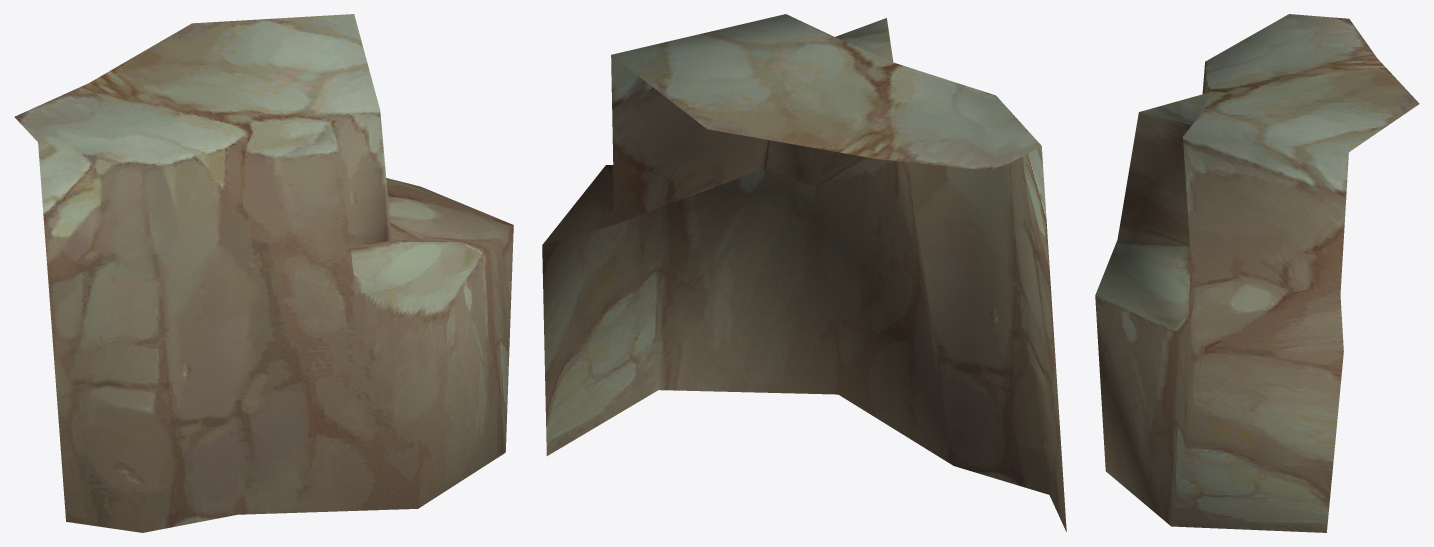
The model's file is Map_08_stone02.FBX.
The picture shows the model from 3 angles, left to right: view 1: azimuth 30°, elevation 25°; view 2: azimuth 150°, elevation 25°; view 3: azimuth 270°, elevation 25°; orthographic projection. The views are drawn at different scales.
Visible parts, largest first — view 1: Map_08_stone02; view 2: Map_08_stone02; view 3: Map_08_stone02.
Part boxes in pixels (x1,y1,x2,y2): Map_08_stone02: (14,14,513,532); Map_08_stone02: (542,14,1066,531); Map_08_stone02: (1095,14,1419,532).
Bounding box in the file's own units: 601 × 427 × 508.
